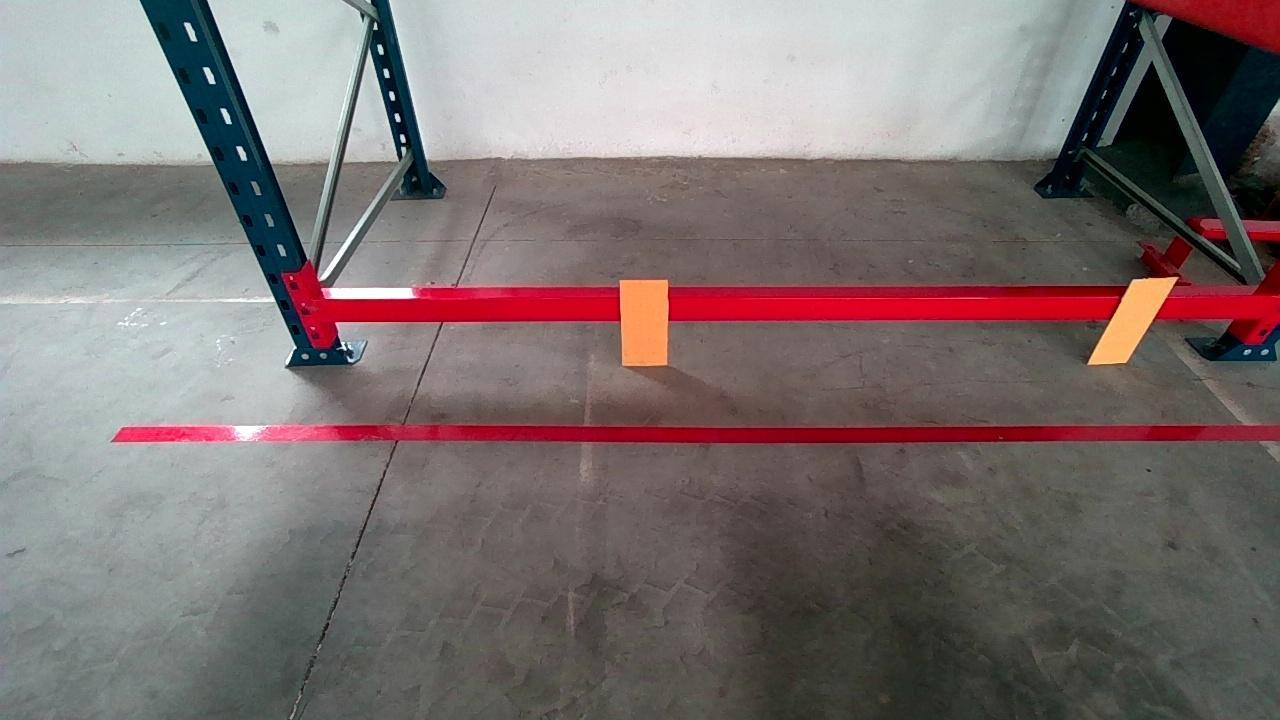h_rack: (318, 296, 1277, 321)
orange_strip: (1089, 277, 1177, 362), (620, 278, 669, 365)
red_line: (107, 419, 1280, 446)
